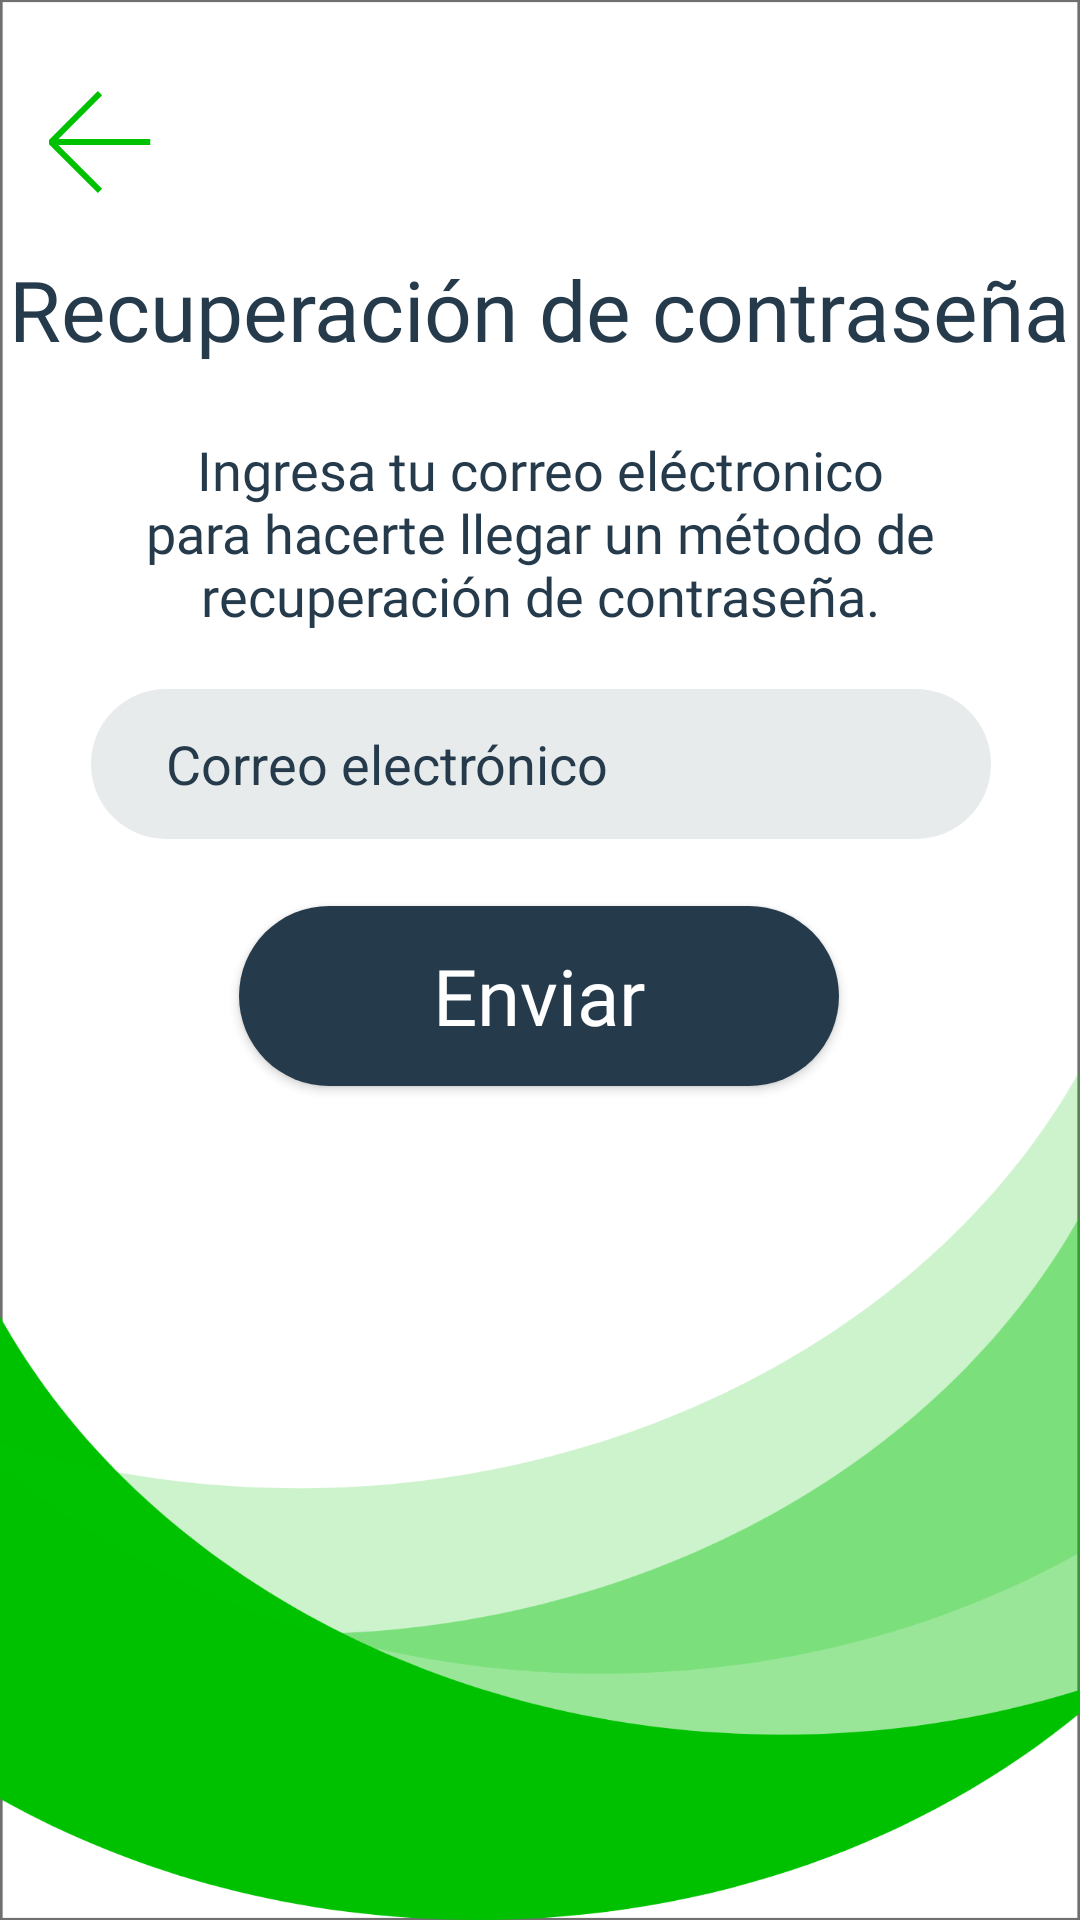

Screen size 1080 x 1920. Icon name, then its center in pixels as (x=x, y=y):
back: (x=100, y=142)
